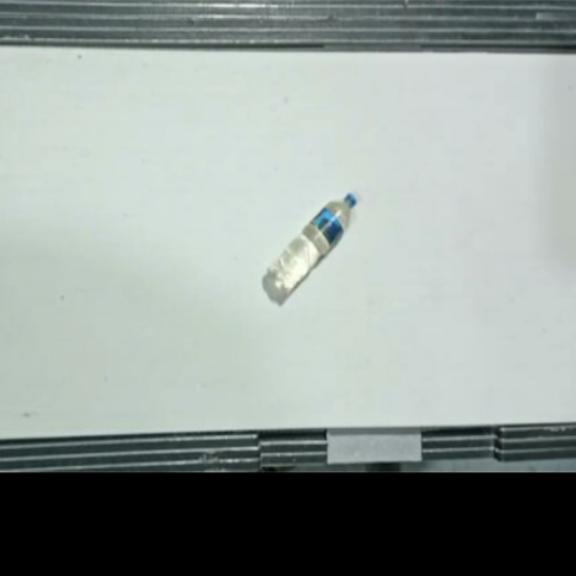Plastik: (267, 191, 358, 294)
